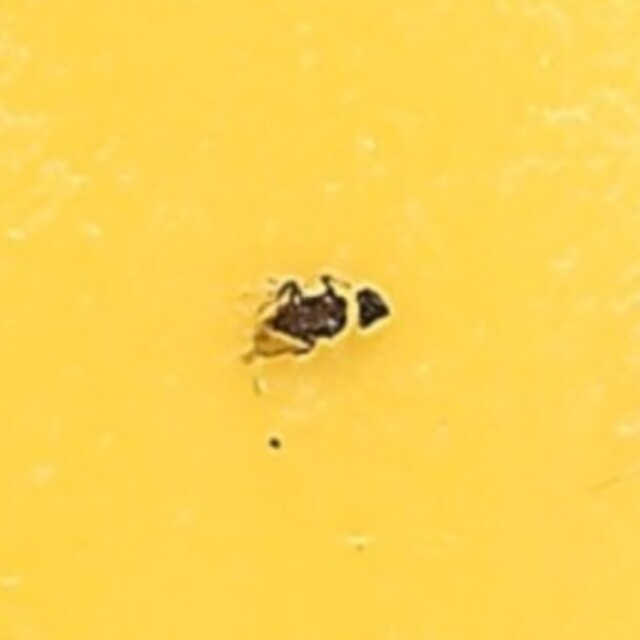Brachycera: (249, 272, 391, 368)
